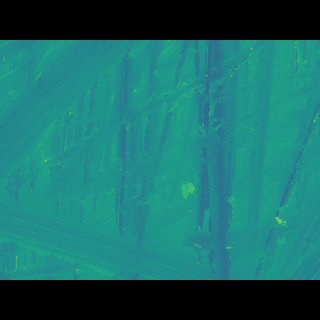Loch: (5, 74, 315, 247)
